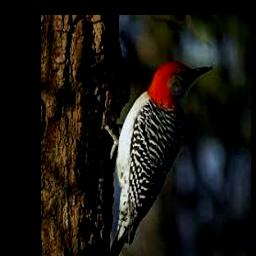Woodpecker: (106, 60, 213, 256)
